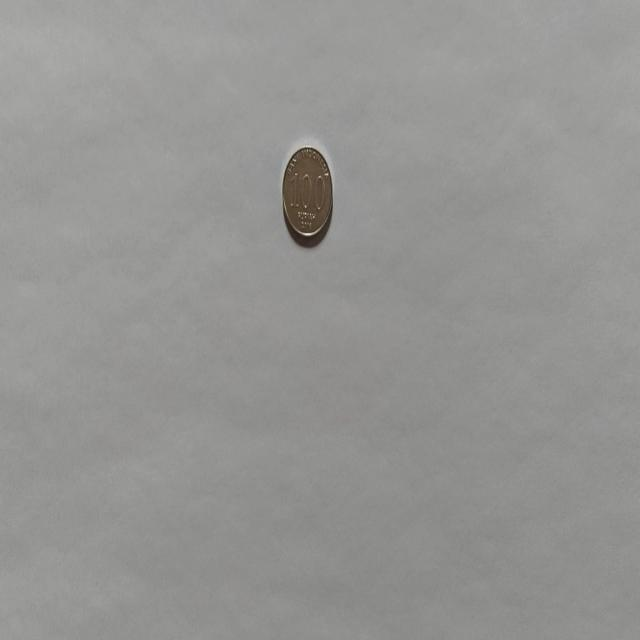seratus rupiah: (281, 144, 333, 243)
